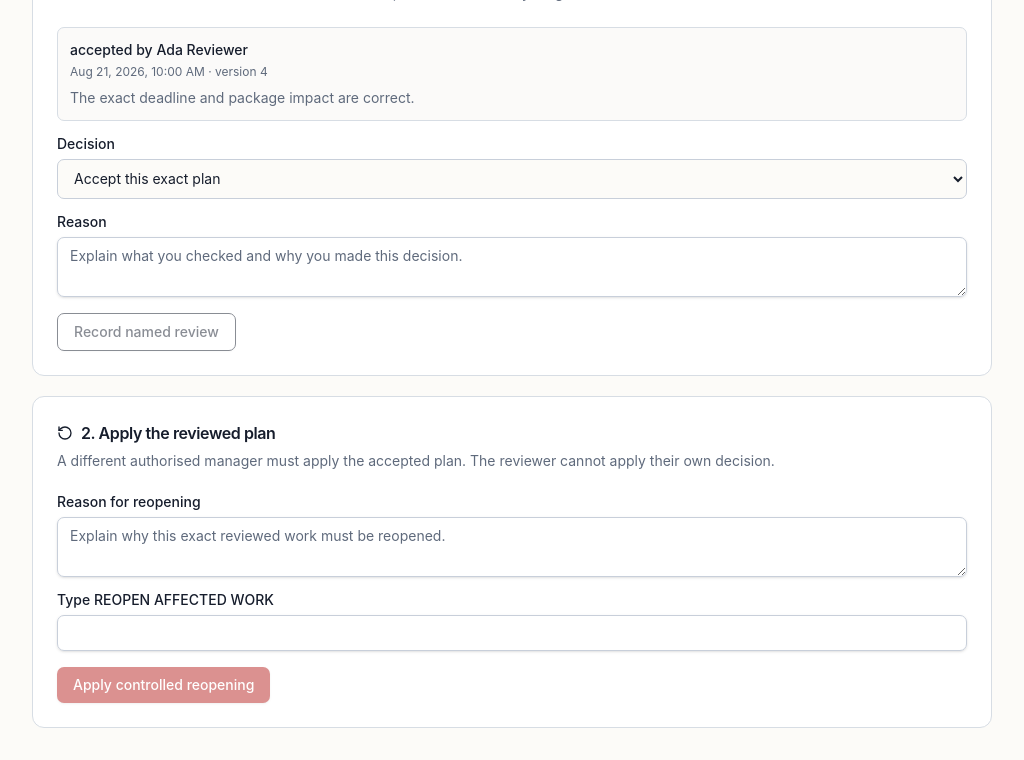
Test: Addendum Impact Centre › requires typed confirmation and sends a separate exact apply command
(page scrolled)
Expected: the button "Apply controlled reopening" is disabled, left=57, top=667, right=270, bottom=703
Type "Apply only the reviewed deadline impact." into the text box labelled "Reason for reopening" at point(512, 547), box left=57, top=517, right=967, bottom=577
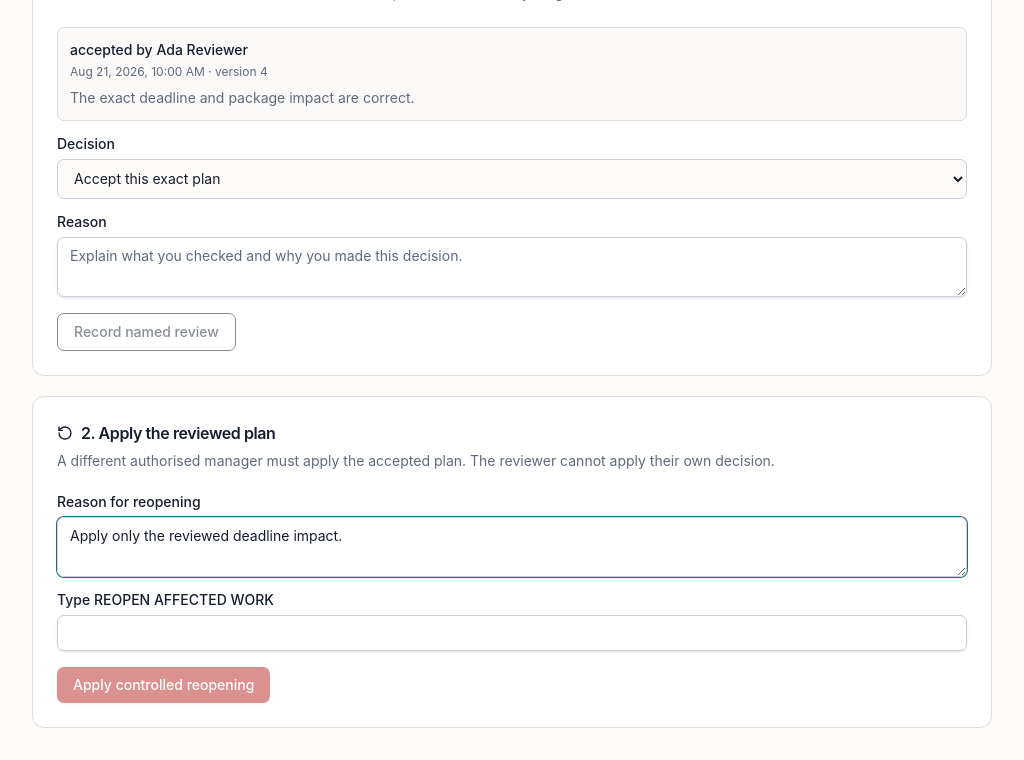
Type "REOPEN AFFECTED WORK" into the field labelled "Type REOPEN AFFECTED WORK" at point(512, 633), box left=57, top=615, right=967, bottom=651
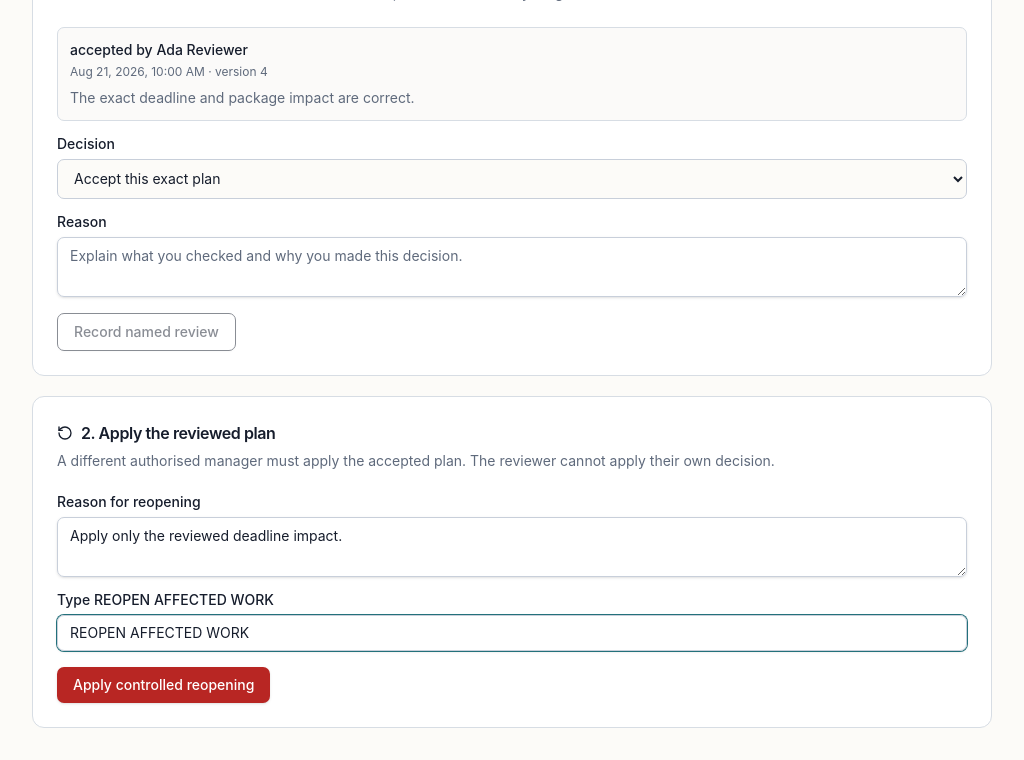
Now the button "Apply controlled reopening" is enabled
Click the button "Apply controlled reopening" at point(164, 685), box left=57, top=667, right=270, bottom=703
(page scrolled)
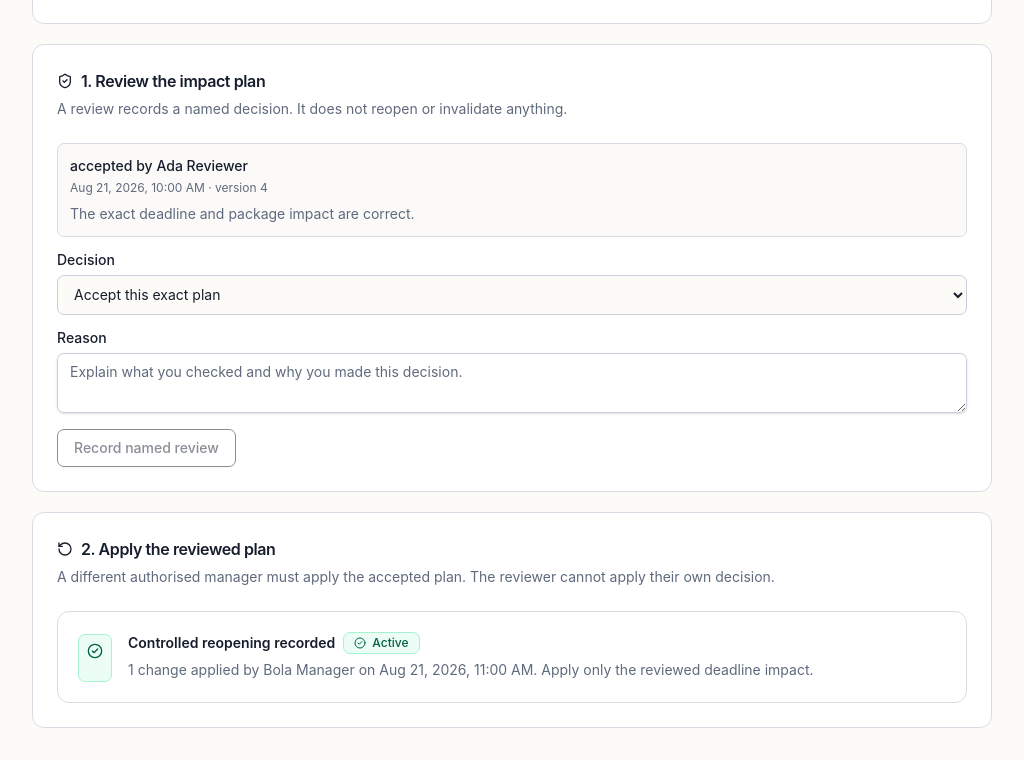
Now the heading "Controlled reopening recorded" is shown, box left=128, top=633, right=335, bottom=653
